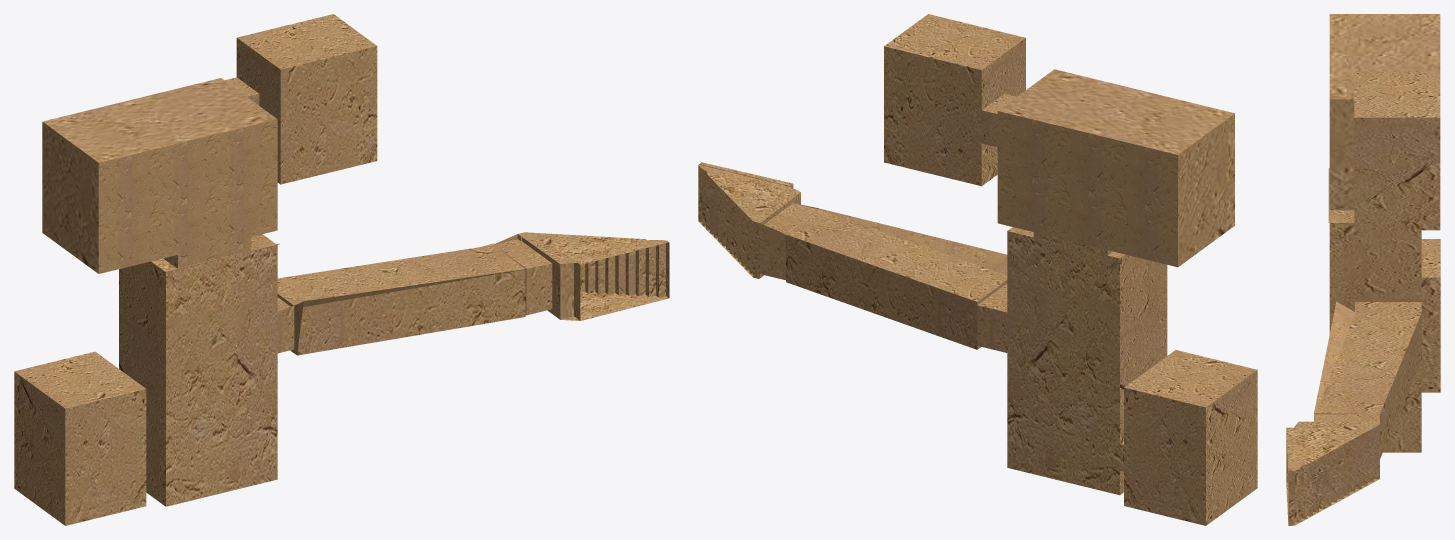
The model's file is KV62-ASE.obj.
3 views of the same model, side by side, from view 1: azimuth 30°, elevation 25°; view 2: azimuth 150°, elevation 25°; view 3: azimuth 270°, elevation 25° (orthographic). The views are drawn at different scales.
Parts seen in each view (by area): view 1: mat0model0surf139, mat0model0surf82, mat0model0surf74, mat0model0surf65, mat0model0surf194, mat0model0surf198, mat0model0surf138, mat0model0surf46, mat0model0surf195, mat0model0surf200, mat0model0surf71, mat0model0surf196 (+7 smaller); view 2: mat0model0surf73, mat0model0surf69, mat0model0surf194, mat0model0surf197, mat0model0surf63, mat0model0surf46, mat0model0surf195, mat0model0surf200, mat0model0surf138, mat0model0surf71, mat0model0surf196, mat0model0surf72 (+3 smaller); view 3: mat0model0surf60, mat0model0surf81, mat0model0surf194, mat0model0surf46, mat0model0surf71, mat0model0surf79, mat0model0surf32, mat0model0surf153, mat0model0surf63, mat0model0surf61, mat0model0surf196, mat0model0surf67 (+18 smaller).
Boxes of the visible parts, x1=… form: mat0model0surf139: x1=166, y1=245, x2=277, y2=506; mat0model0surf82: x1=98, y1=119, x2=277, y2=273; mat0model0surf74: x1=280, y1=46, x2=377, y2=184; mat0model0surf65: x1=297, y1=269, x2=525, y2=355; mat0model0surf194: x1=42, y1=78, x2=276, y2=162; mat0model0surf198: x1=65, y1=389, x2=146, y2=525; mat0model0surf138: x1=119, y1=261, x2=165, y2=506; mat0model0surf46: x1=277, y1=239, x2=551, y2=305; mat0model0surf195: x1=42, y1=122, x2=98, y2=273; mat0model0surf200: x1=14, y1=371, x2=65, y2=525; mat0model0surf71: x1=237, y1=14, x2=376, y2=69; mat0model0surf196: x1=14, y1=351, x2=145, y2=408; mat0model0surf73: x1=884, y1=46, x2=1177, y2=267; mat0model0surf69: x1=977, y1=231, x2=1123, y2=495; mat0model0surf194: x1=998, y1=69, x2=1234, y2=154; mat0model0surf197: x1=1124, y1=387, x2=1205, y2=525; mat0model0surf63: x1=786, y1=235, x2=977, y2=349; mat0model0surf46: x1=764, y1=203, x2=1007, y2=301; mat0model0surf195: x1=1178, y1=113, x2=1234, y2=266; mat0model0surf200: x1=1206, y1=370, x2=1257, y2=525; mat0model0surf138: x1=1120, y1=254, x2=1167, y2=494; mat0model0surf71: x1=884, y1=14, x2=1025, y2=69; mat0model0surf196: x1=1124, y1=350, x2=1257, y2=407; mat0model0surf72: x1=981, y1=38, x2=1025, y2=185; mat0model0surf60: x1=1354, y1=117, x2=1440, y2=230; mat0model0surf81: x1=1329, y1=223, x2=1421, y2=452; mat0model0surf194: x1=1329, y1=14, x2=1440, y2=99; mat0model0surf46: x1=1314, y1=313, x2=1421, y2=421; mat0model0surf71: x1=1354, y1=71, x2=1440, y2=117; mat0model0surf79: x1=1329, y1=99, x2=1354, y2=208; mat0model0surf32: x1=1293, y1=421, x2=1379, y2=471; mat0model0surf153: x1=1421, y1=277, x2=1440, y2=392; mat0model0surf63: x1=1379, y1=313, x2=1421, y2=458; mat0model0surf61: x1=1314, y1=302, x2=1355, y2=413; mat0model0surf196: x1=1421, y1=239, x2=1440, y2=277; mat0model0surf67: x1=1355, y1=302, x2=1421, y2=312.
Bounding box in the file's own units: 1325 × 870 × 313.
